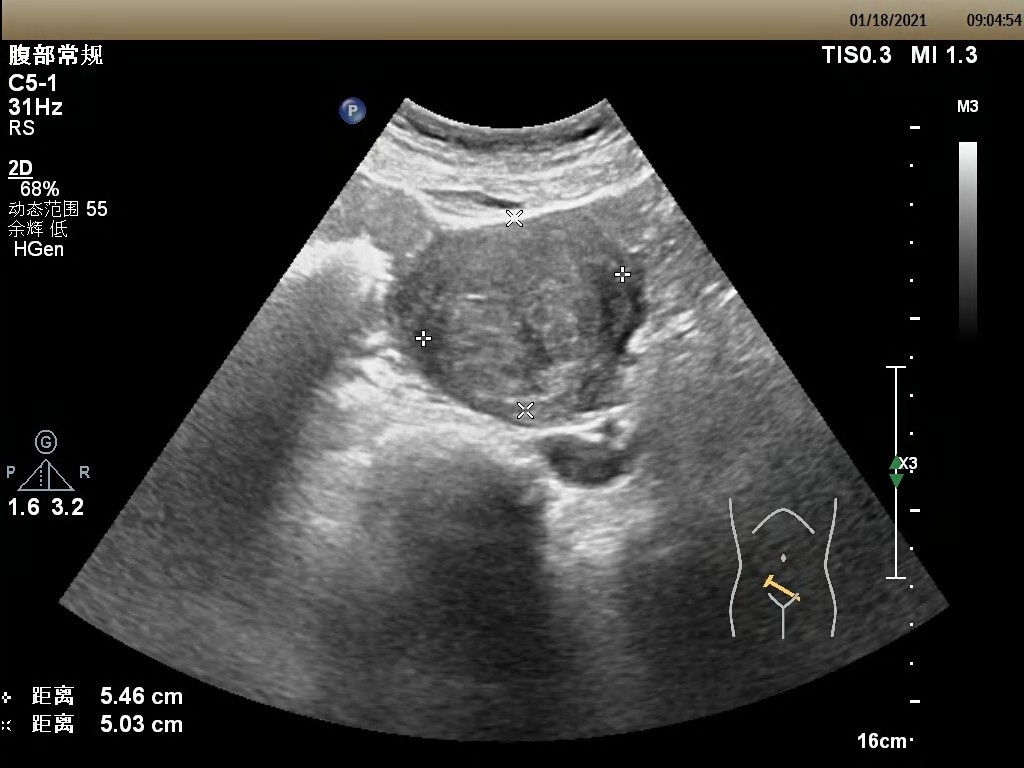肌瘤: (426, 215, 625, 416)
